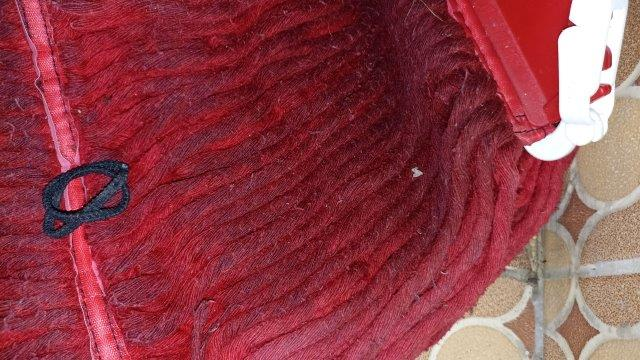karet: (43, 160, 129, 238)
